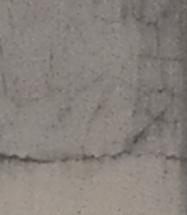fissura: (0, 101, 186, 171)
